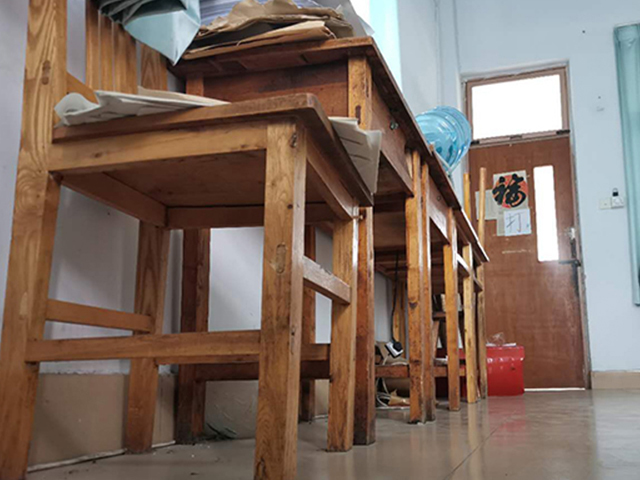stool: (1, 2, 365, 479)
wire: (373, 337, 410, 414)
